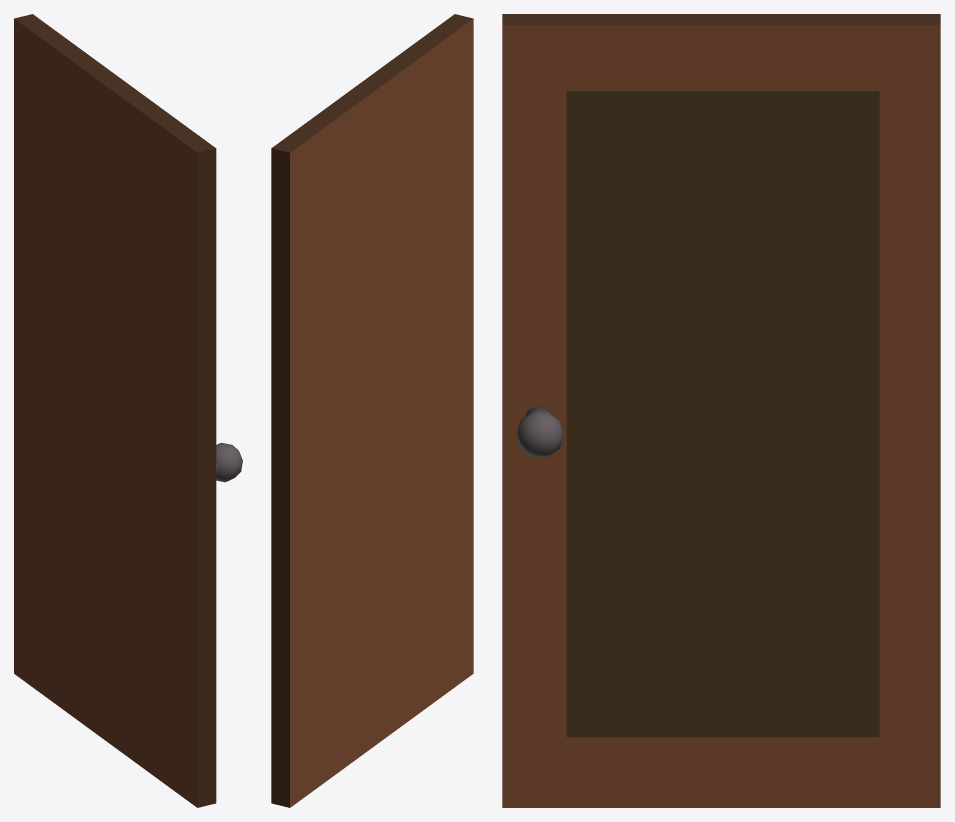
The model's file is NormieDoor.fbx.
The picture shows the model from 3 angles, left to right: view 1: azimuth 30°, elevation 25°; view 2: azimuth 150°, elevation 25°; view 3: azimuth 270°, elevation 25°; orthographic projection. The views are drawn at different scales.
Parts seen in each view (by area): view 1: Cube, Icosphere; view 2: Cube; view 3: Cube.001, Cube, Icosphere.
Boxes of the visible parts, x1,y1,x2,y2 form: Cube: [14, 14, 217, 807]; Icosphere: [216, 442, 242, 482]; Cube: [271, 14, 473, 807]; Cube.001: [566, 89, 879, 737]; Cube: [502, 14, 940, 807]; Icosphere: [516, 411, 563, 457].
Size of the model in its own units: 172 by 1842 by 935.
